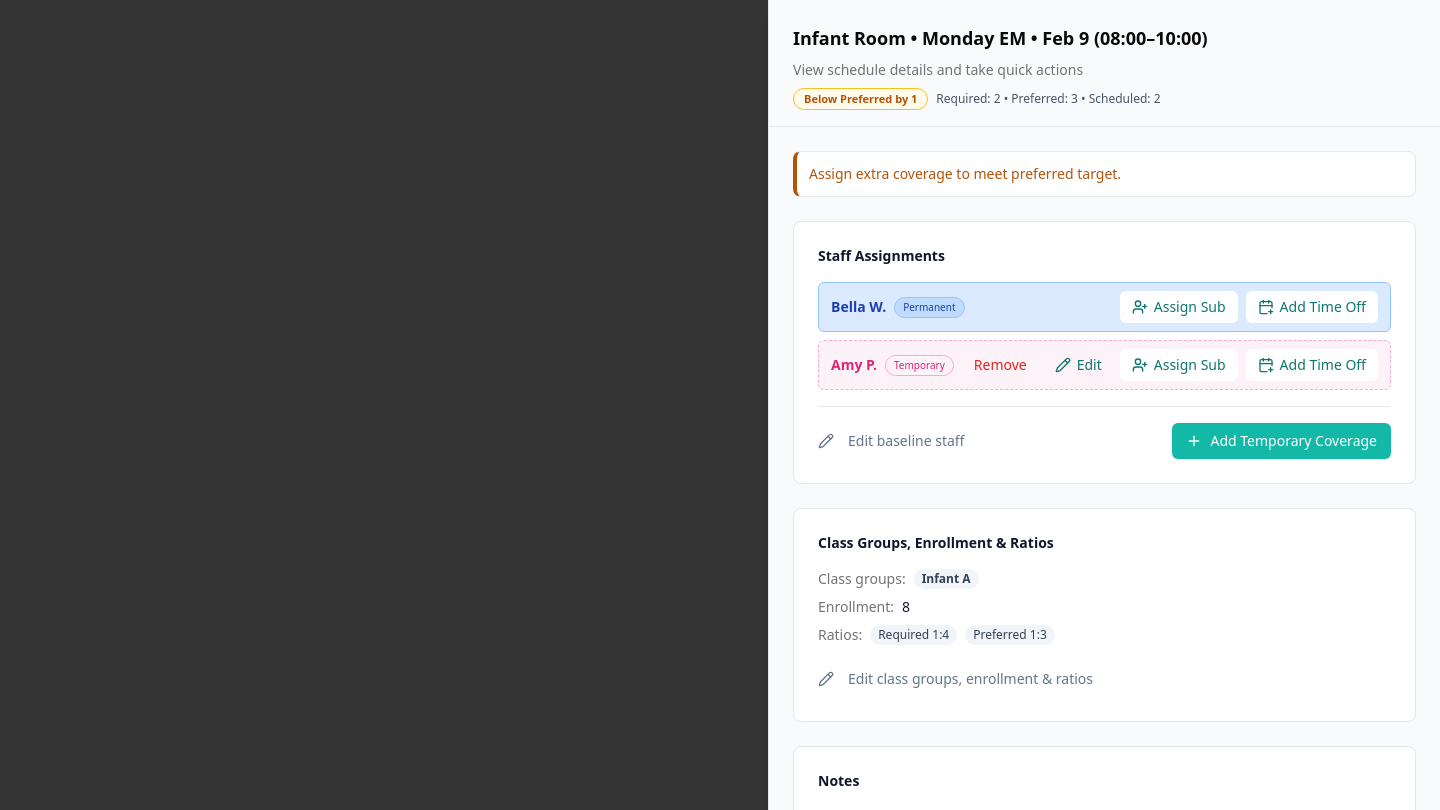
Test: ScheduleSidePanel interactions › shows single-shift confirmation copy with no weekday/all-shifts options
expect the text "Bella W." is shown: met, box [831,297,886,317]
Step 1. Click the button "Remove" → (1000, 365), box [964,349,1037,381]
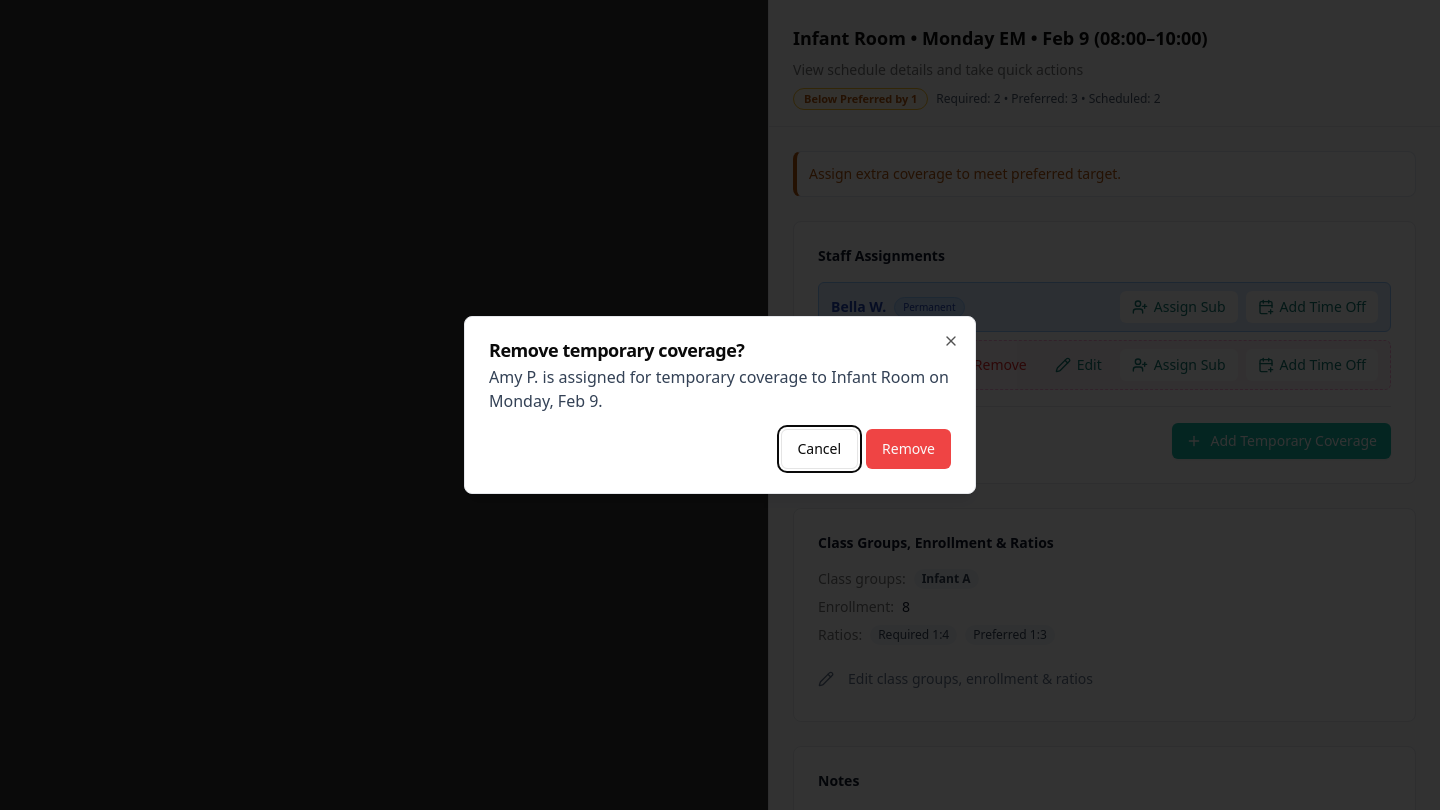
expect the text "Amy P. is assigned for temporary coverage to Infant Room on Monday, Feb 9." is shown: met, box [489,365,951,413]
